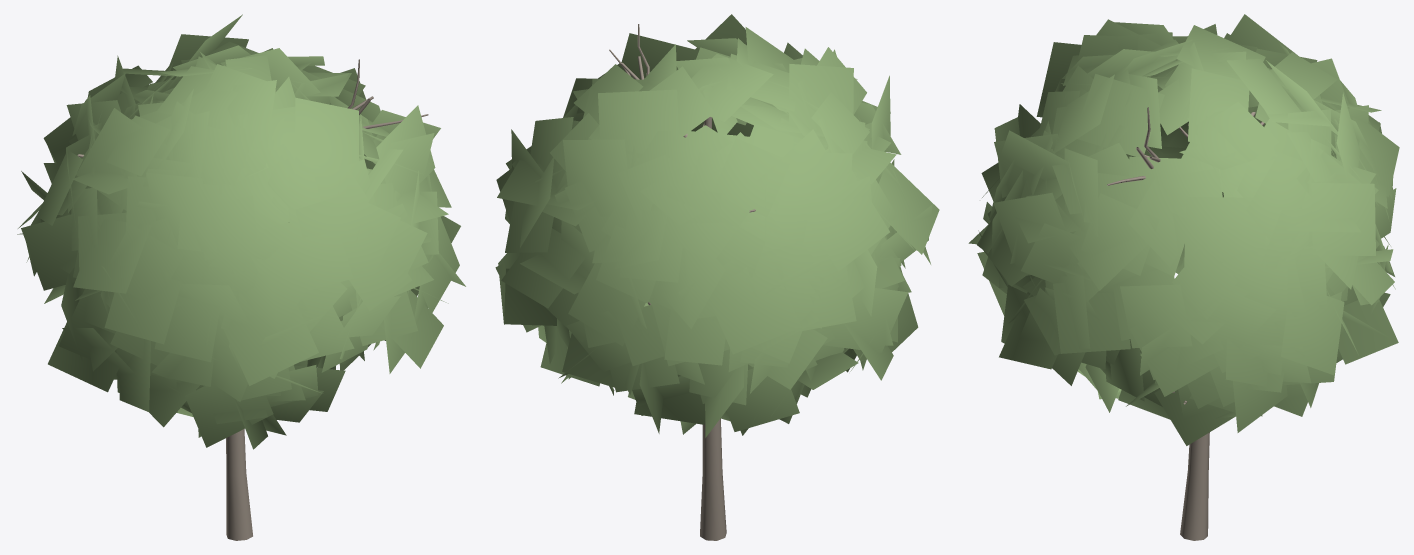
3 views of the same model, side by side, from view 1: azimuth 30°, elevation 25°; view 2: azimuth 150°, elevation 25°; view 3: azimuth 270°, elevation 25° (orthographic).
Visible parts, largest first — view 1: Plane_LOD0; view 2: Plane_LOD0; view 3: Plane_LOD0.
Part boxes in pixels (left/top/right/bottom): Plane_LOD0: left=17, top=14, right=465, bottom=540; Plane_LOD0: left=495, top=14, right=939, bottom=540; Plane_LOD0: left=968, top=14, right=1399, bottom=540.
Size of what is drawn, in the model's own units: 15.47 by 18.38 by 14.72.
